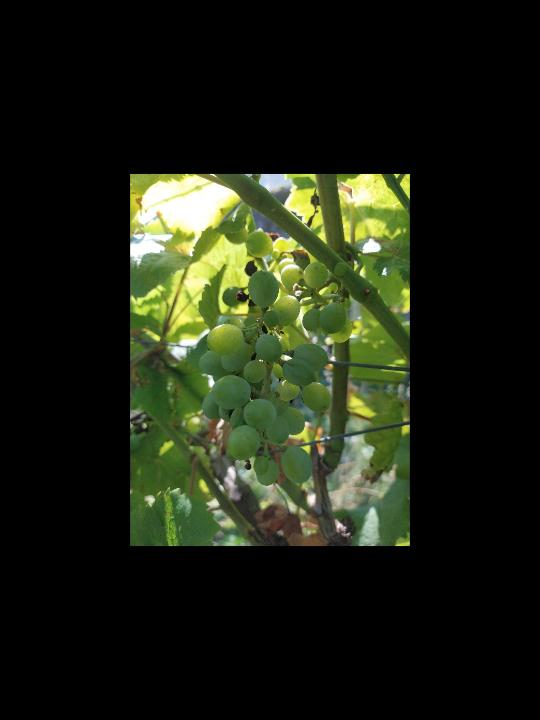grape: (199, 225, 353, 486)
